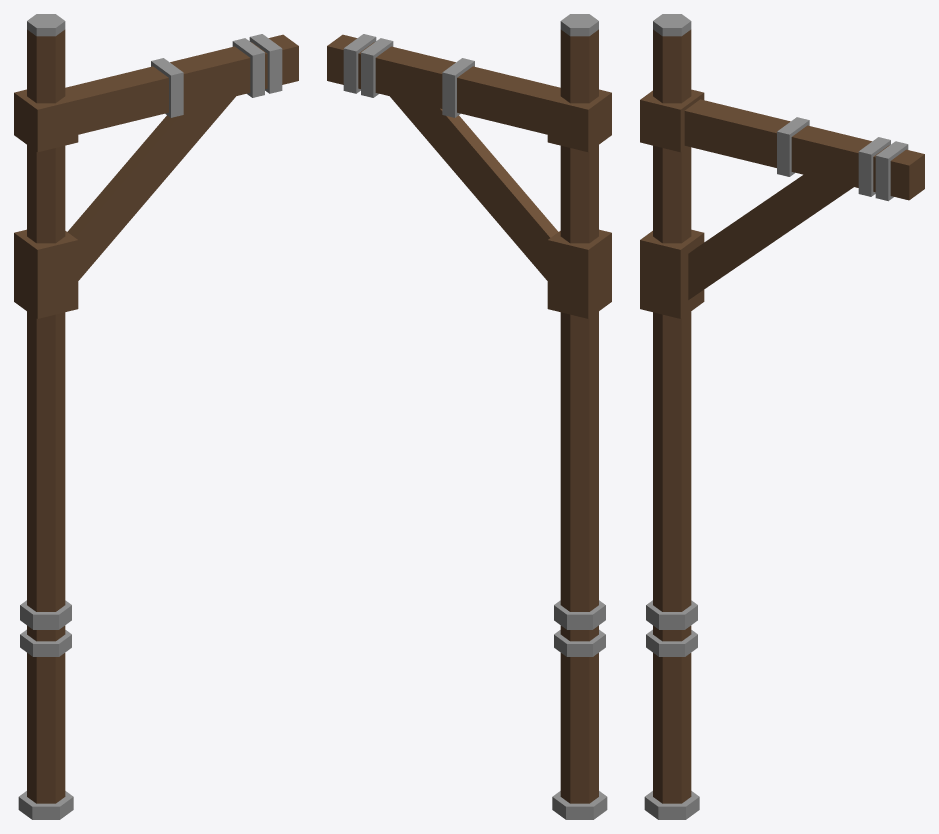
File: stolb_1.fbx
3 views of the same model, side by side, from view 1: azimuth 30°, elevation 25°; view 2: azimuth 150°, elevation 25°; view 3: azimuth 330°, elevation 25° (orthographic).
Parts seen in each view (by area): view 1: Cylinder; view 2: Cylinder; view 3: Cylinder.
Part boxes in pixels (bbox=[...]): Cylinder: bbox=[14, 14, 298, 819]; Cylinder: bbox=[327, 14, 611, 819]; Cylinder: bbox=[640, 14, 924, 819].
Bounding box in the file's own units: 136 × 385 × 24.32.
